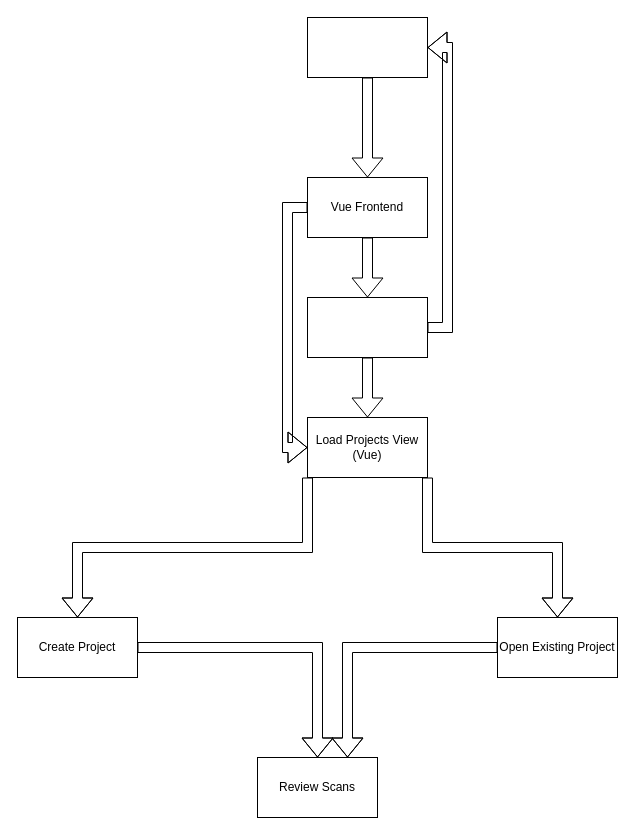
Some shapes in this 635 by 835 pixel diagram are drawn without their labels. The shapes that lost their labels are listed below. From the top down, each one's centre as x and y in pixels, then its label:
(367,47): Django Backend (localhost:8000)
(367,327): If Not Authenticated
